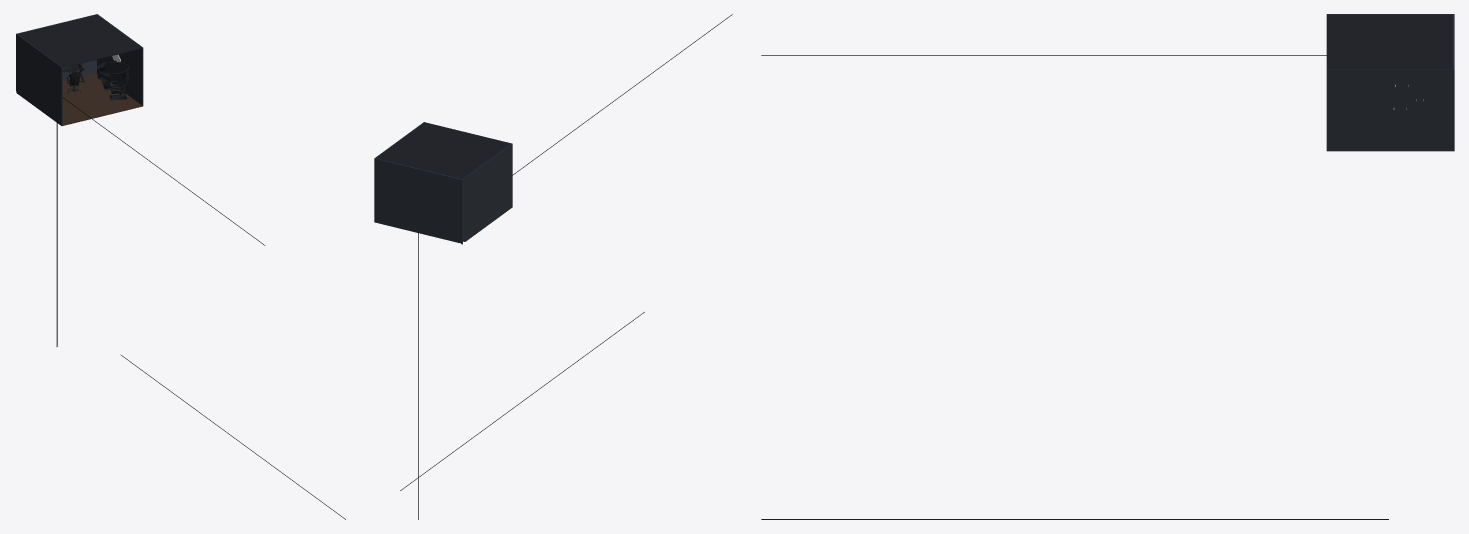
The model's file is room.glb.
3 renders of one model, left to right at view 1: azimuth 30°, elevation 25°; view 2: azimuth 150°, elevation 25°; view 3: azimuth 270°, elevation 25°, orthographic. The views are drawn at different scales.
Parts seen in each view (by area): view 1: roof, leftwall_Mesh, floor, rightwall_Mesh, Cube.022, Baseboard_Back, backwall_Mesh; view 2: backwall_Mesh, roof, leftwall_Mesh; view 3: rightwall_Mesh, roof.
Part boxes in pixels (bbox=[...]): roof: bbox=[17, 14, 142, 67]; leftwall_Mesh: bbox=[16, 34, 62, 125]; floor: bbox=[62, 72, 142, 125]; rightwall_Mesh: bbox=[97, 14, 143, 106]; Cube.022: bbox=[97, 62, 129, 100]; Baseboard_Back: bbox=[56, 123, 57, 346]; backwall_Mesh: bbox=[16, 14, 97, 90]; backwall_Mesh: bbox=[374, 158, 463, 243]; roof: bbox=[376, 122, 511, 179]; leftwall_Mesh: bbox=[462, 143, 512, 241]; rightwall_Mesh: bbox=[1326, 69, 1453, 151]; roof: bbox=[1326, 14, 1453, 68].
Size of the model in its own units: 10.49 by 38.68 by 53.93.
Materials: 21 (5 with a texture image).
